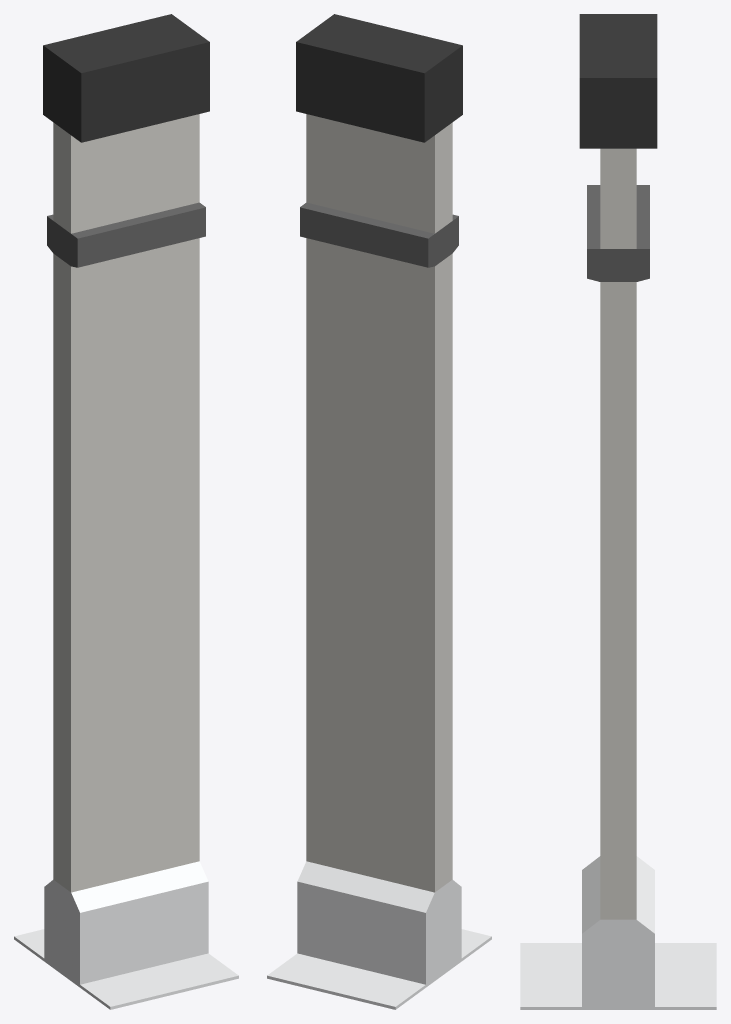
Rendered from Wall.fbx.
3 views of the same model, side by side, from view 1: azimuth 30°, elevation 25°; view 2: azimuth 150°, elevation 25°; view 3: azimuth 270°, elevation 25° (orthographic).
Visible parts, largest first — view 1: Wall; view 2: Wall; view 3: Wall.
Boxes of the visible parts, left/top/right/bottom form: Wall: left=14, top=14, right=238, bottom=1009; Wall: left=267, top=14, right=491, bottom=1009; Wall: left=520, top=14, right=716, bottom=1009.
Bounding box in the file's own units: 1.32 × 1.72 × 9.02.
